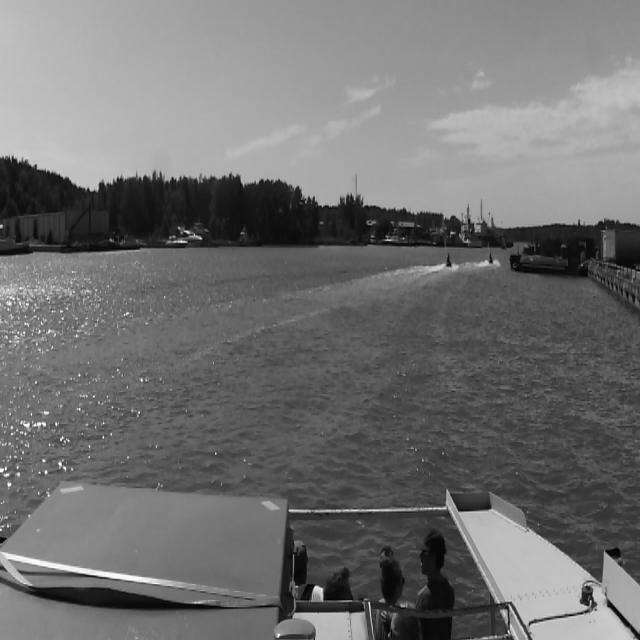ship: (175, 227, 203, 247), (165, 236, 188, 247), (446, 254, 452, 268), (488, 253, 494, 265)
